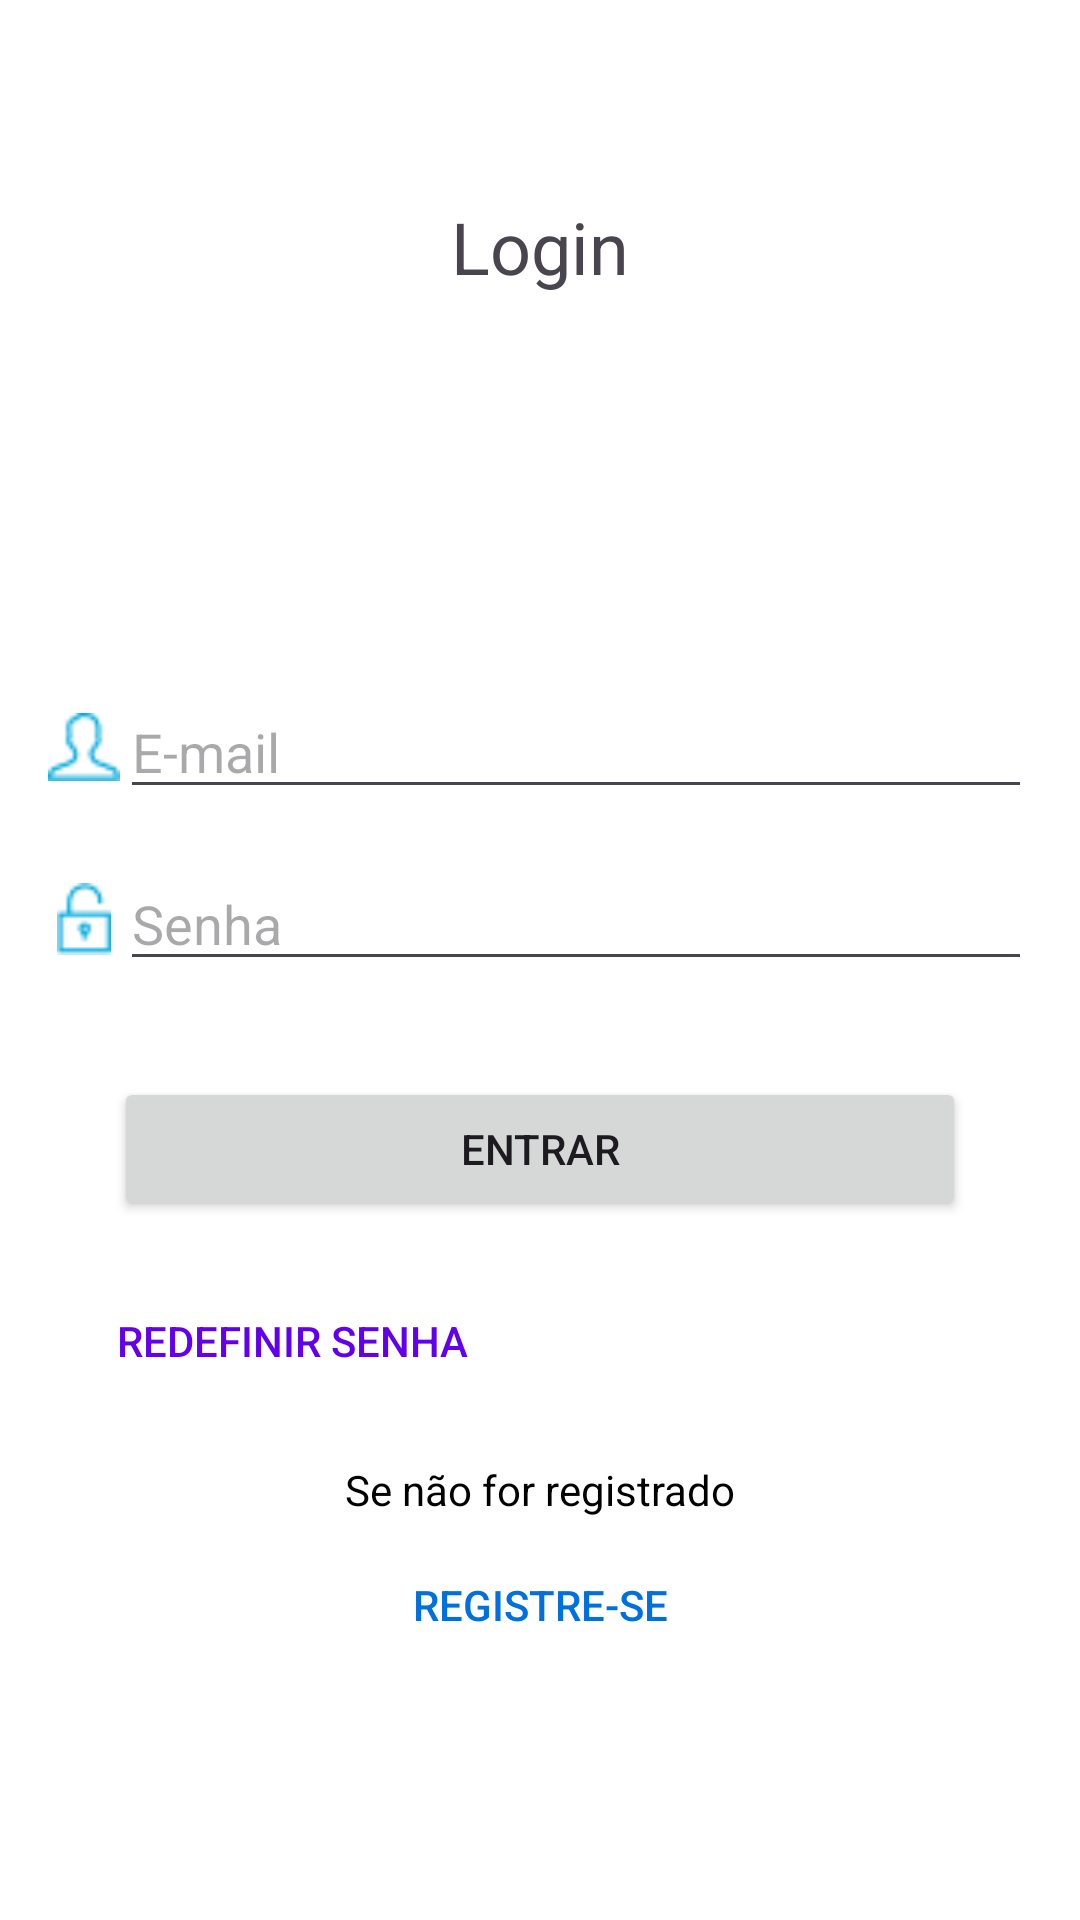

Point at icon controls on the screen. Image size 1080px x 1920px, points as (x=x, y=y).
iconecadeado: (x=84, y=919)
iconeperfil: (x=84, y=747)
